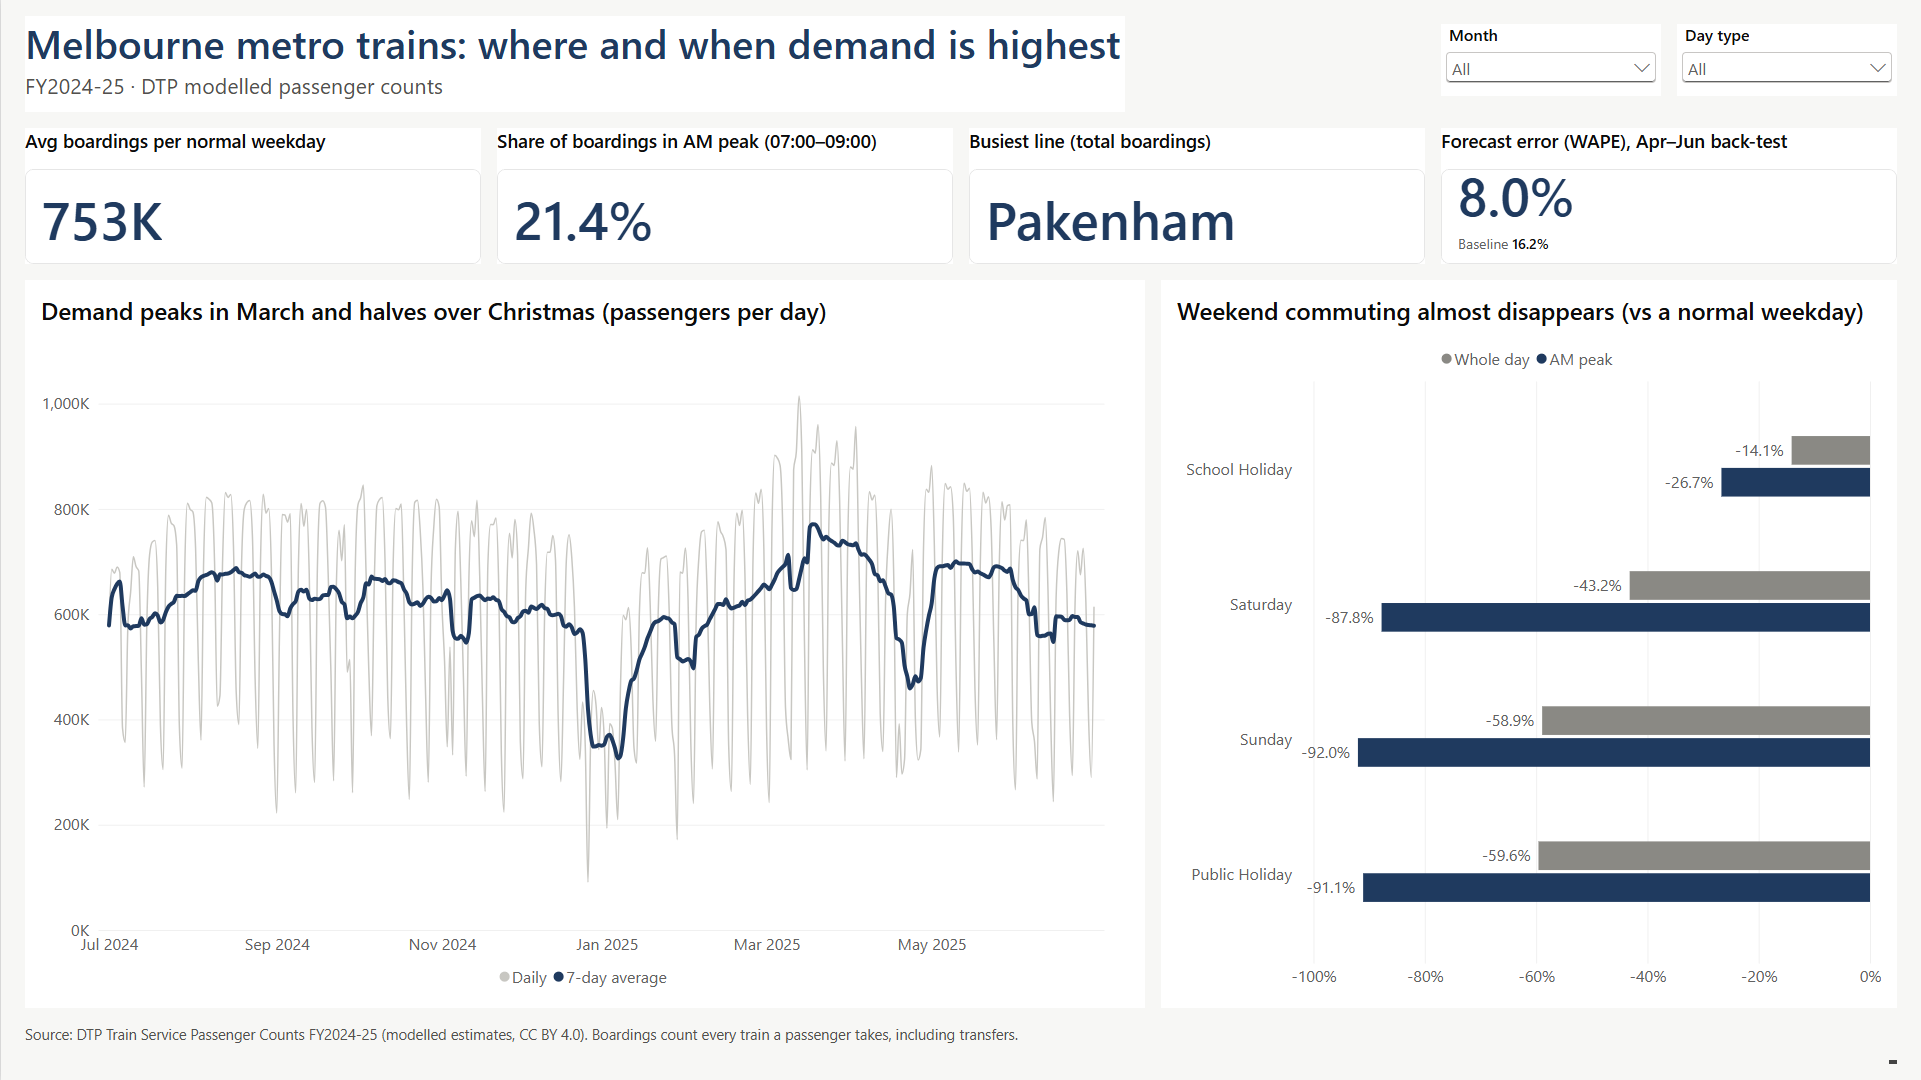

Layout of this report page (visuals, bound fields, positions):
{"tool":"powerbi","page":{"name":"Network overview","canvas":[1920,1080],"ordinal":0},"visuals":[{"type":"textbox","title":"Melbourne metro trains: where and when demand is highest","box":[24,16,1100,96],"z":0},{"type":"slicer","fields":{"Values":["DIM_CALENDAR.MONTH_LABEL"]},"box":[1440,24,220,72],"z":1000},{"type":"slicer","fields":{"Values":["DIM_DAY_TYPE.DAY_TYPE"]},"box":[1676,24,220,72],"z":2000},{"type":"cardVisual","title":"Avg boardings per normal weekday","fields":{"Data":["_Measures.Avg Weekday Boardings"]},"box":[24,128,456,136],"z":3000},{"type":"cardVisual","title":"Share of boardings in AM peak (07:00–09:00)","fields":{"Data":["_Measures.AM Peak Share %"]},"box":[496,128,456,136],"z":4000},{"type":"cardVisual","title":"Busiest line (total boardings)","fields":{"Data":["_Measures.Busiest Line"]},"box":[968,128,456,136],"z":5000},{"type":"cardVisual","title":"Forecast error (WAPE), Apr–Jun back-test","fields":{"Data":["_Measures.Network Forecast WAPE"]},"box":[1440,128,456,136],"z":6000},{"type":"lineChart","title":"Demand peaks in March and halves over Christmas (passengers per day)","fields":{"Category":["DIM_CALENDAR.CALENDAR_DATE.Variation.Date Hierarchy.Year"],"Y":["_Measures.Total Boardings","_Measures.Boardings 7D MA"]},"box":[24,280,1120,728],"z":7000},{"type":"clusteredBarChart","title":"Weekend commuting almost disappears (vs a normal weekday)","fields":{"Category":["DIM_DAY_TYPE.DAY_TYPE"],"Y":["_Measures.vs Normal Weekday %","_Measures.vs Normal Weekday % (AM Peak)"]},"box":[1160,280,736,728],"z":8000},{"type":"textbox","title":"Source: DTP Train Service Passenger Counts FY2024-25 (modelled estimates, CC BY 4.0). Boardings count every train a passenger takes, including transfers.","box":[24,1024,1872,40],"z":9000}]}

Visuals, with their boxes in screenshot pixels (x1, y1, x2, y2), scaled from the page's 1920x1080 canvas onto the 1921x1080 screenshot:
"Melbourne metro trains: where and when demand is highest" textbox: [left=24, top=16, right=1125, bottom=112]
slicer - DIM_CALENDAR.MONTH_LABEL: [left=1441, top=24, right=1661, bottom=96]
slicer - DIM_DAY_TYPE.DAY_TYPE: [left=1677, top=24, right=1897, bottom=96]
"Avg boardings per normal weekday" cardVisual: [left=24, top=128, right=480, bottom=264]
"Share of boardings in AM peak (07:00–09:00)" cardVisual: [left=496, top=128, right=952, bottom=264]
"Busiest line (total boardings)" cardVisual: [left=969, top=128, right=1425, bottom=264]
"Forecast error (WAPE), Apr–Jun back-test" cardVisual: [left=1441, top=128, right=1897, bottom=264]
"Demand peaks in March and halves over Christmas (passengers per day)" lineChart: [left=24, top=280, right=1145, bottom=1008]
"Weekend commuting almost disappears (vs a normal weekday)" clusteredBarChart: [left=1161, top=280, right=1897, bottom=1008]
"Source: DTP Train Service Passenger Counts FY2024-25 (modelled estimates, CC BY 4.0). Boardings count every train a passenger takes, including transfers." textbox: [left=24, top=1024, right=1897, bottom=1064]
